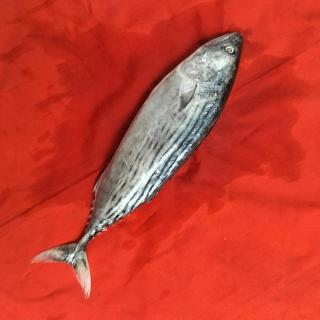Ikan: (46, 17, 246, 274)
